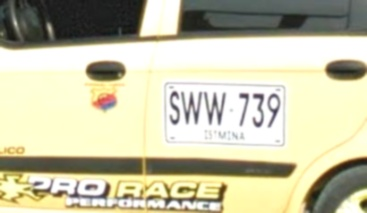placas: (161, 78, 292, 150)
